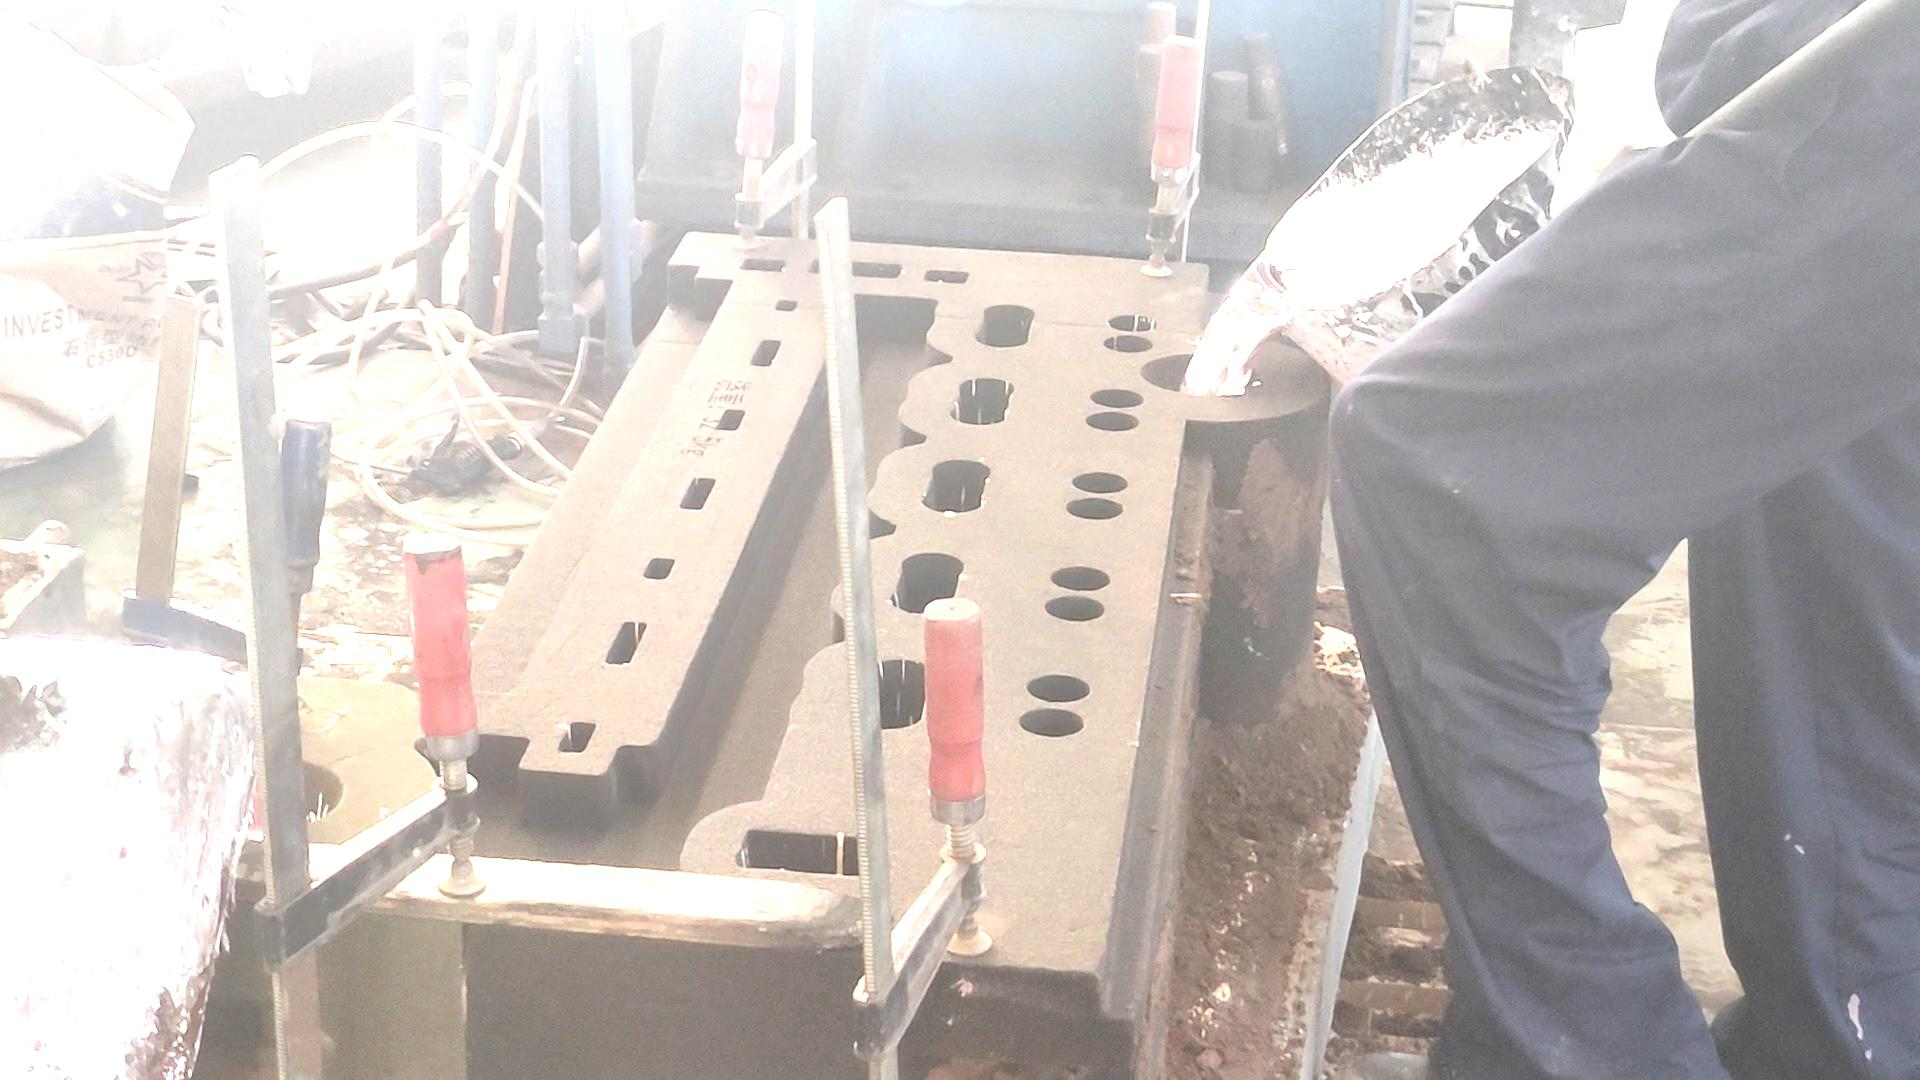pouring hole: (211, 752, 345, 829), (1139, 353, 1262, 393)
